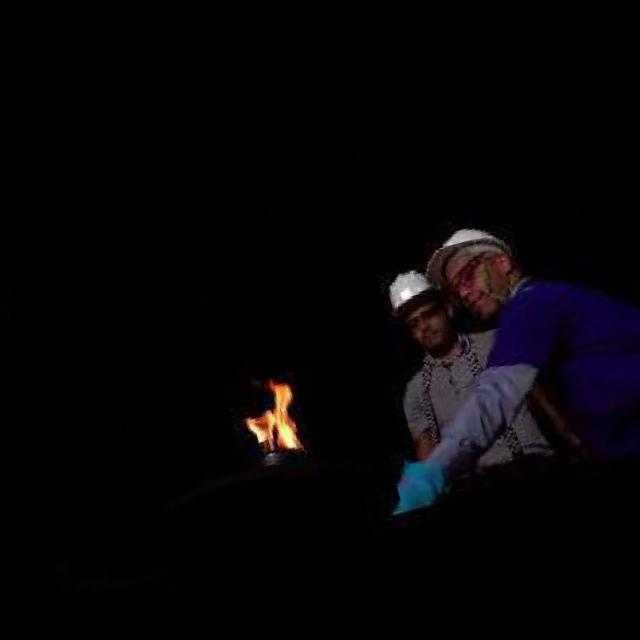fire: (236, 370, 308, 454)
